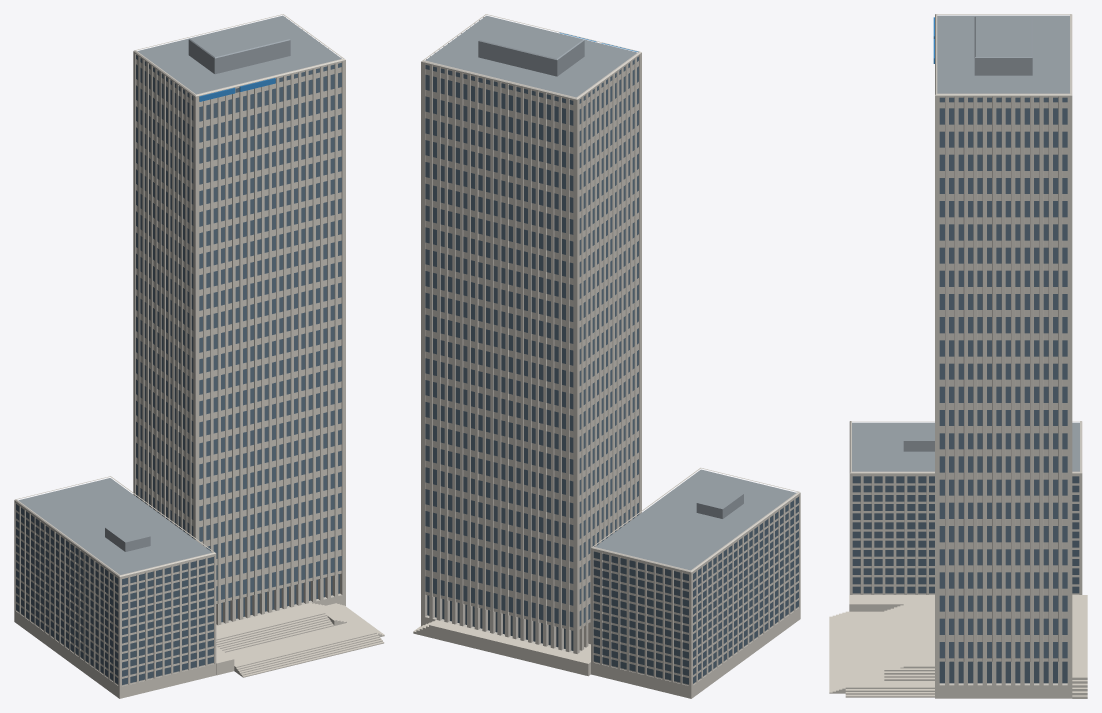
Rendered from nola-hancock-whitney-center.glb.
3 renders of one model, left to right at view 1: azimuth 30°, elevation 25°; view 2: azimuth 150°, elevation 25°; view 3: azimuth 270°, elevation 25°, orthographic. The views are drawn at different scales.
Visible parts, largest first — view 1: Hancock Whitney Center; view 2: Hancock Whitney Center; view 3: Hancock Whitney Center.
Part boxes in pixels (<box>): Hancock Whitney Center: <box>14,14,384,698</box>; Hancock Whitney Center: <box>413,14,800,698</box>; Hancock Whitney Center: <box>829,14,1087,698</box>.
Size of the model in its own units: 105 by 212 by 80.
